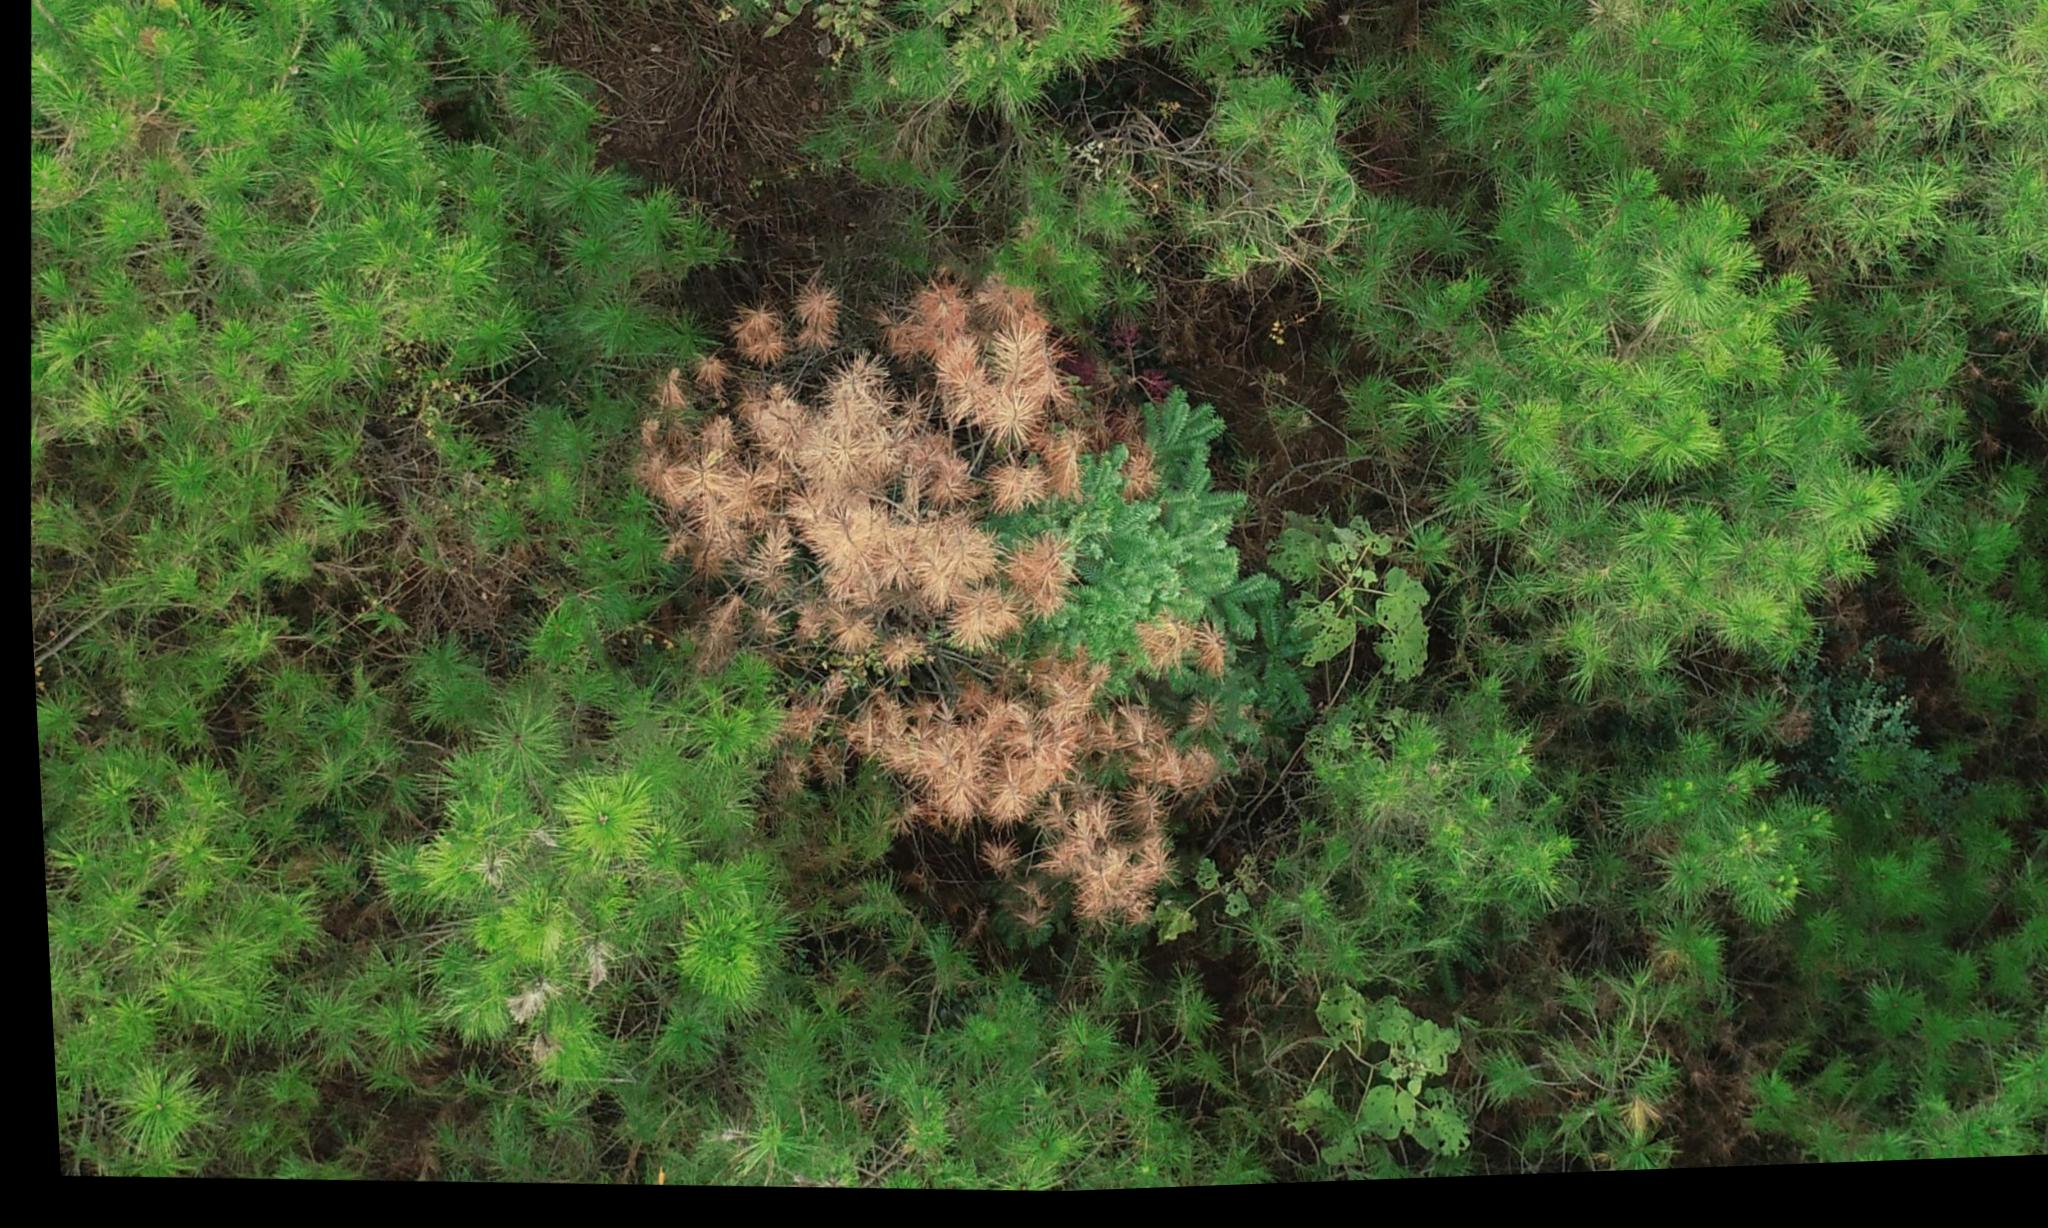heavy: (582, 262, 1229, 946)
